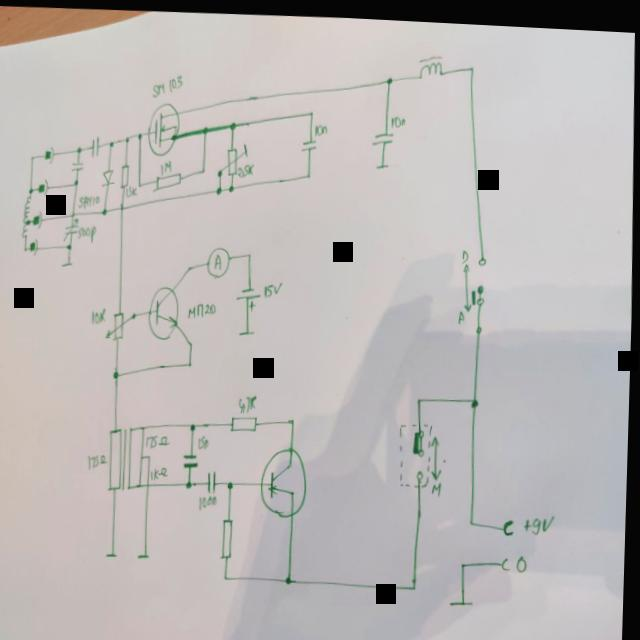capacitor: (63, 215, 80, 240), (371, 126, 395, 143), (183, 449, 200, 466), (299, 134, 318, 149), (208, 466, 219, 491), (90, 134, 101, 156), (70, 158, 84, 171)
crossover: (119, 201, 125, 209), (70, 209, 76, 217), (148, 480, 152, 486)
diode: (101, 166, 116, 186)
ground: (451, 593, 477, 602), (239, 325, 256, 334), (376, 157, 390, 166), (108, 549, 120, 557), (62, 259, 74, 267), (140, 551, 152, 557)
inductor: (417, 48, 444, 77), (22, 194, 33, 222), (21, 221, 29, 237)
junction: (113, 366, 122, 378), (475, 316, 484, 328), (471, 391, 479, 403), (228, 477, 237, 487), (384, 71, 393, 81), (186, 476, 195, 486), (466, 58, 475, 68), (229, 117, 237, 128), (287, 571, 295, 582), (412, 576, 420, 587), (190, 419, 198, 429), (216, 181, 223, 192), (188, 355, 195, 366), (136, 128, 143, 138), (102, 204, 108, 215), (75, 144, 83, 152), (228, 180, 235, 189), (109, 137, 115, 147), (202, 123, 208, 133), (124, 133, 131, 141), (188, 336, 194, 345), (187, 260, 193, 269), (305, 168, 311, 176), (225, 570, 231, 578), (417, 391, 423, 399), (73, 177, 79, 185), (308, 105, 314, 113), (200, 164, 206, 172), (290, 413, 296, 421), (66, 241, 72, 249), (26, 217, 32, 225), (463, 555, 468, 564), (29, 184, 34, 193), (138, 178, 143, 186), (29, 153, 34, 160), (471, 514, 476, 520), (247, 248, 252, 254), (23, 245, 28, 251), (149, 452, 153, 457)
resistor: (217, 137, 250, 176), (106, 307, 138, 341), (220, 514, 238, 559), (154, 168, 182, 189), (231, 411, 260, 430), (120, 162, 130, 186)
source: (237, 282, 263, 309)
switch: (394, 411, 445, 490), (461, 242, 489, 311)
terminal: (503, 510, 518, 531), (501, 550, 514, 565)
text: (151, 70, 184, 98), (525, 506, 556, 531), (188, 297, 218, 317), (77, 192, 102, 209), (239, 390, 259, 411), (78, 223, 98, 244), (148, 430, 172, 447), (88, 449, 110, 467), (263, 277, 284, 294), (199, 490, 220, 507), (312, 117, 330, 134), (92, 305, 108, 324), (389, 108, 406, 125), (236, 159, 255, 174), (153, 463, 171, 477), (518, 548, 531, 567), (457, 303, 468, 323), (199, 432, 211, 448), (160, 158, 172, 174), (433, 475, 444, 491), (126, 183, 138, 195), (462, 243, 470, 259)
transformer: (108, 422, 148, 490)
transistor: (261, 441, 310, 516), (147, 98, 181, 156), (148, 282, 181, 338)
